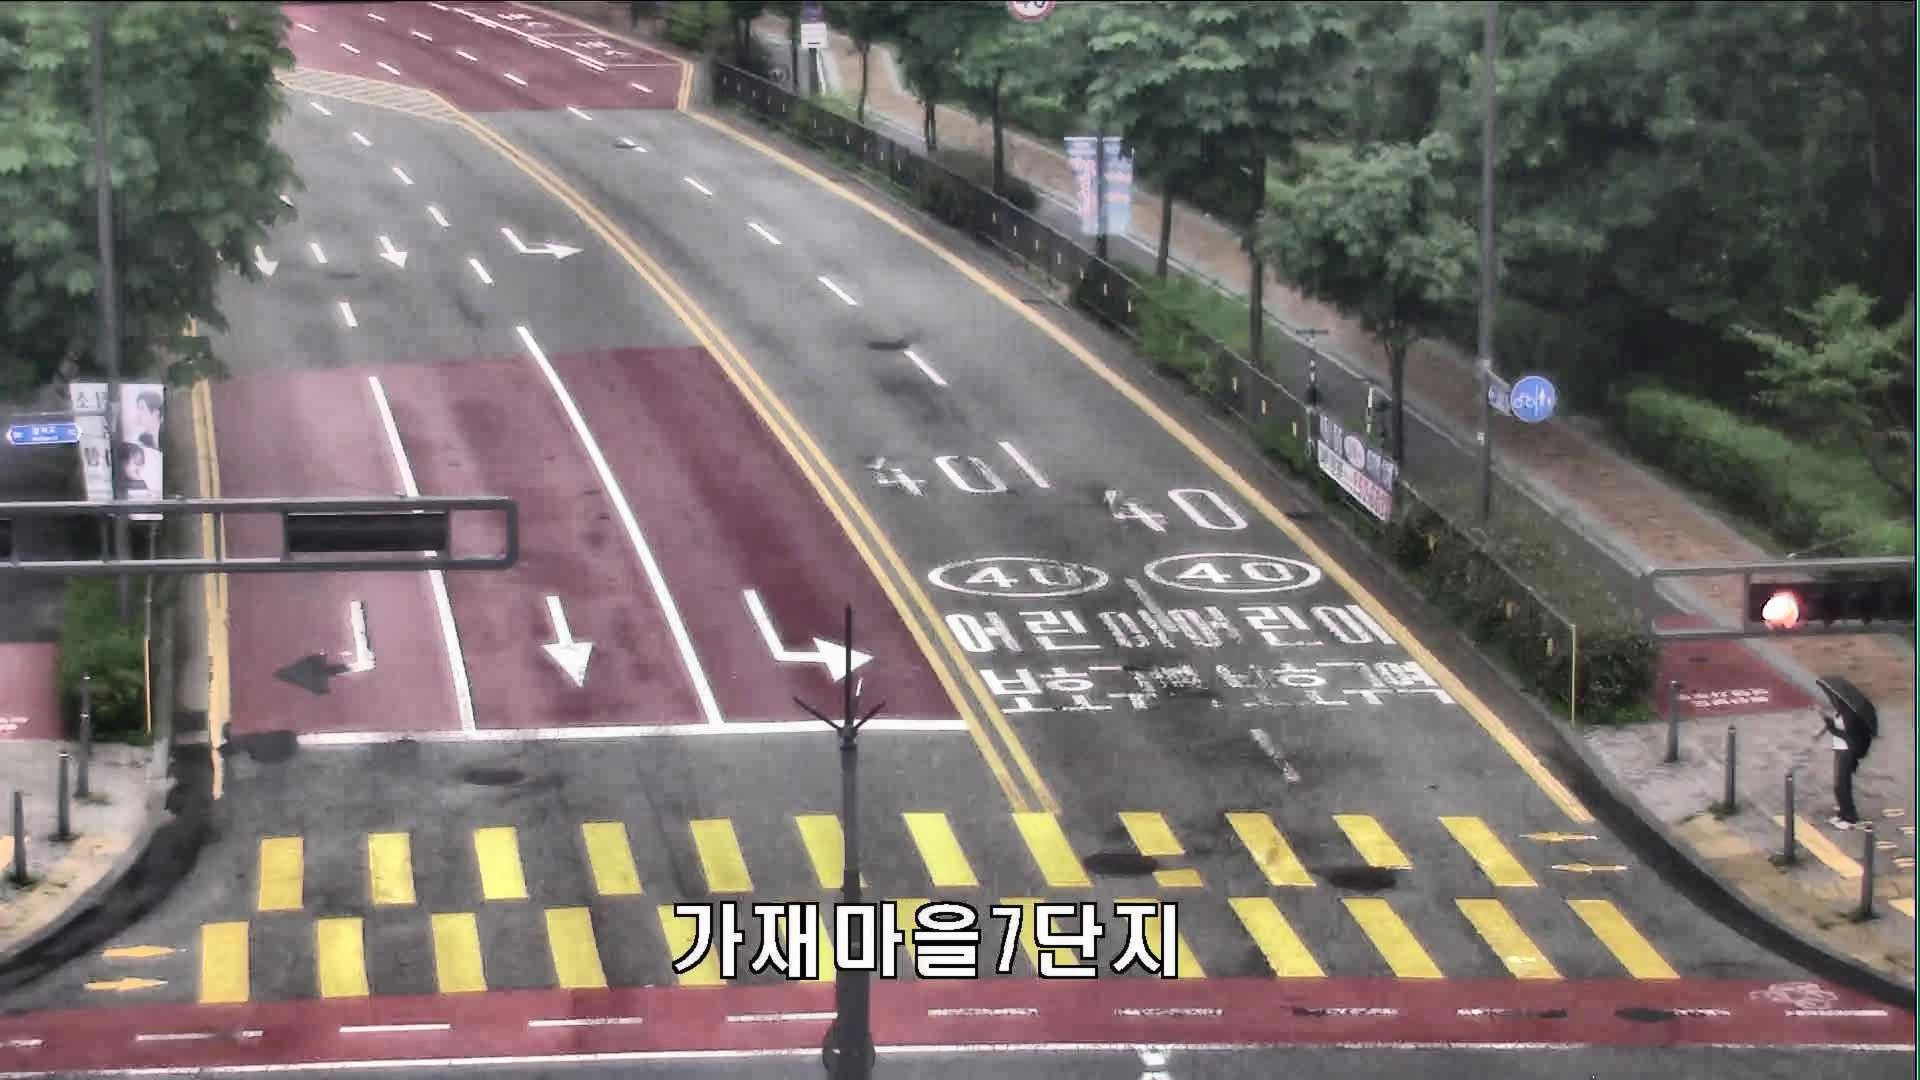um_sidewalk: (1817, 679, 1876, 831)
